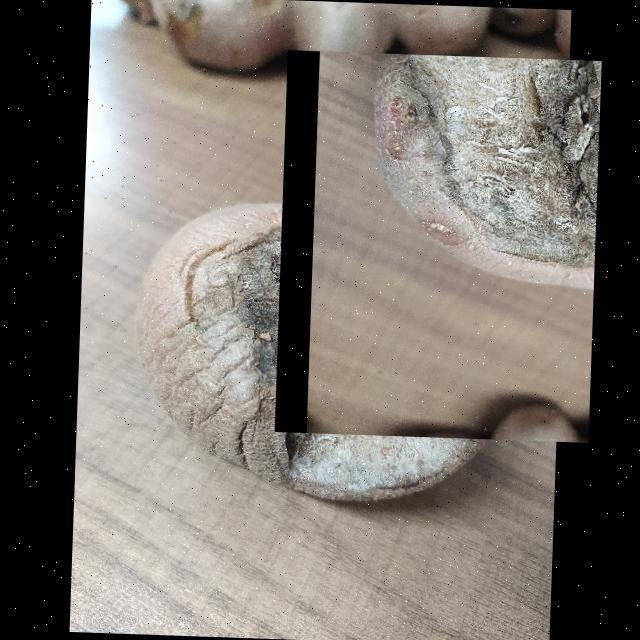Damaged potato: (274, 49, 601, 442)
